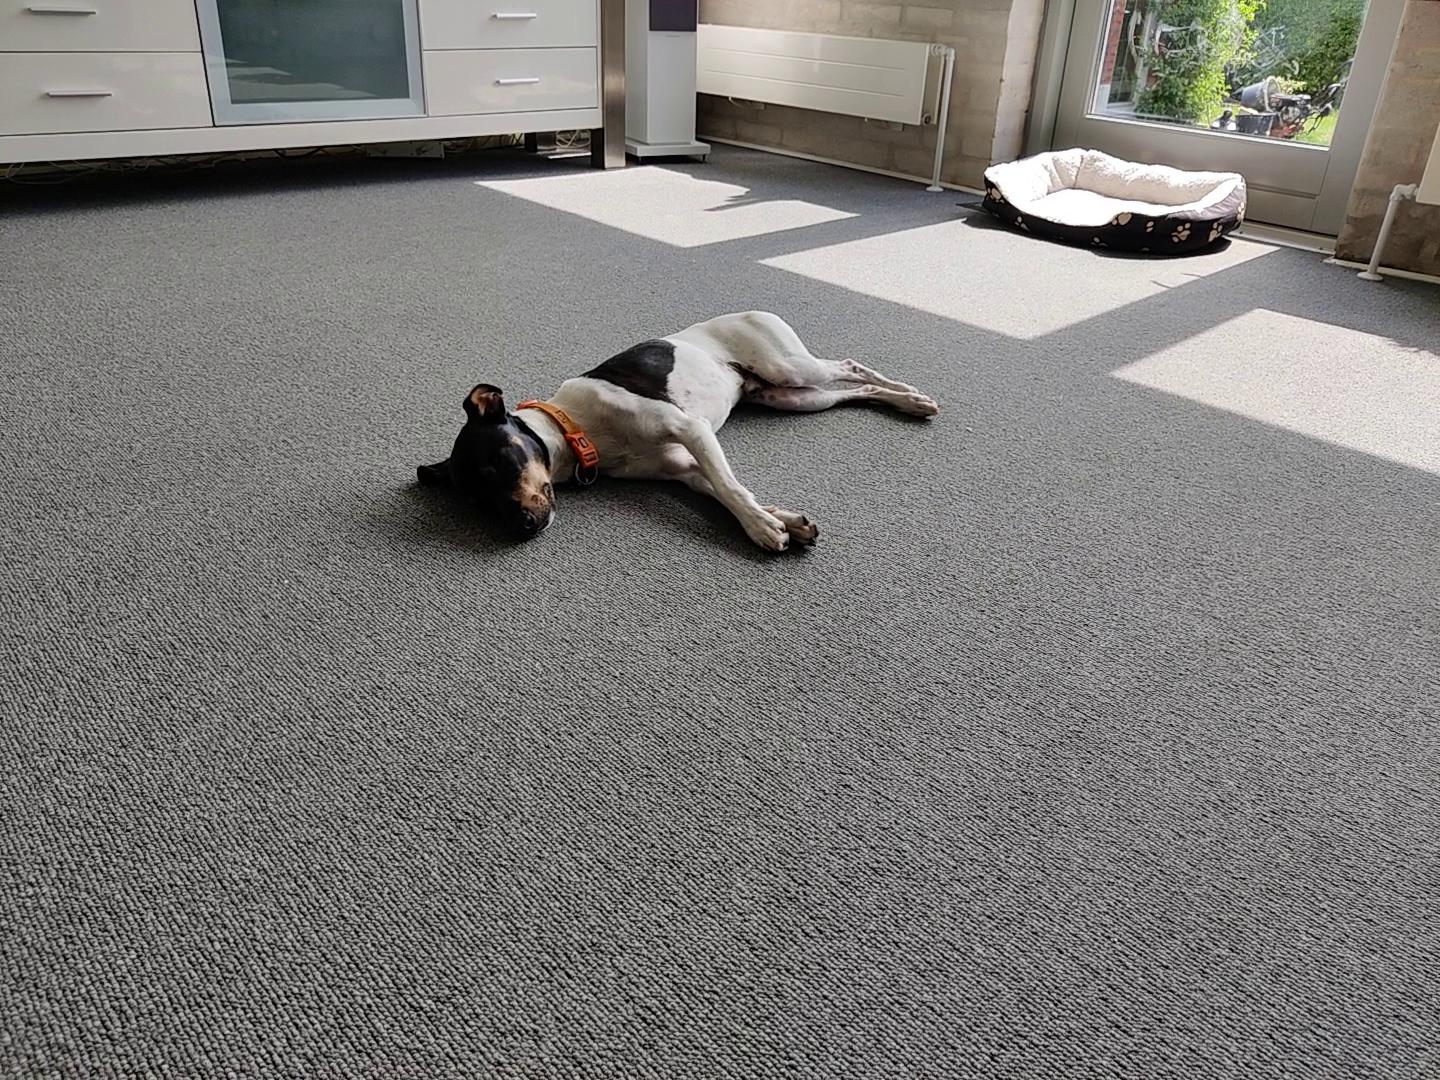Dog: (408, 306, 940, 560)
